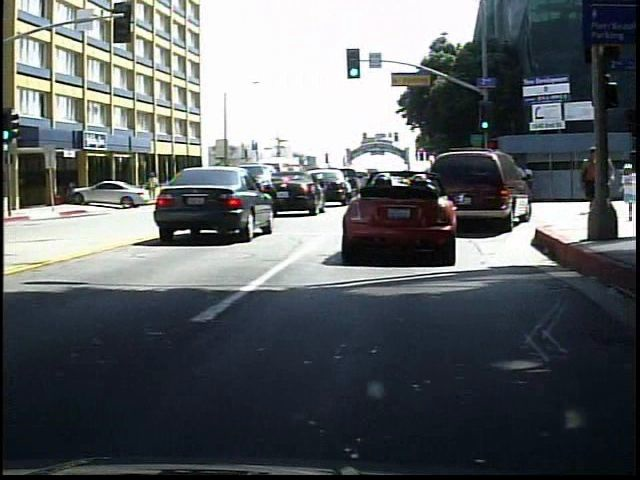person: (571, 144, 598, 223), (612, 164, 634, 220), (139, 171, 157, 205)
